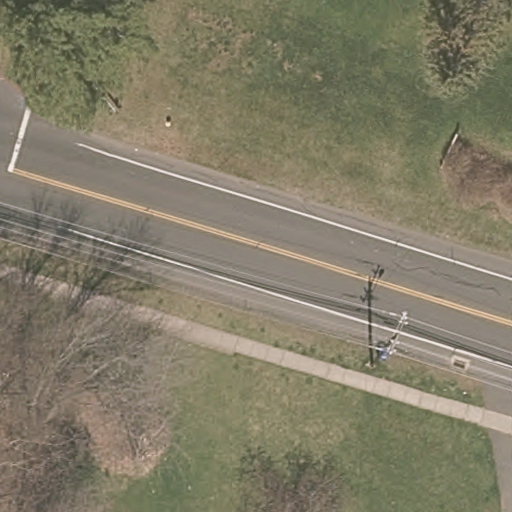DT: (382, 309, 411, 358)
